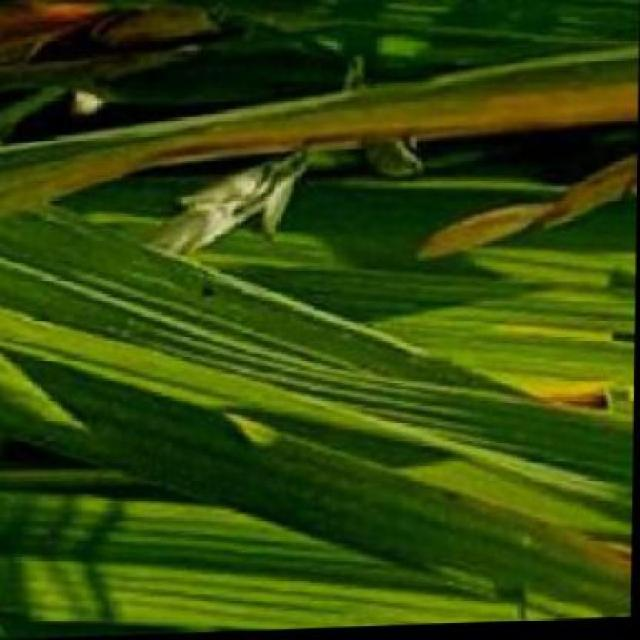Brown_Spot: (32, 74, 630, 211)
